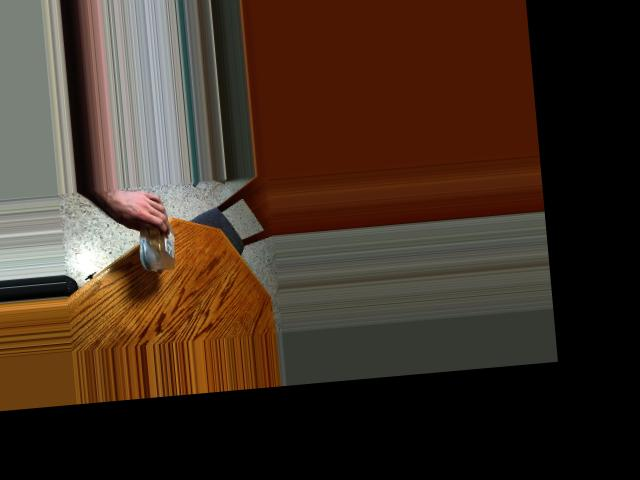cheese: (122, 208, 187, 279)
